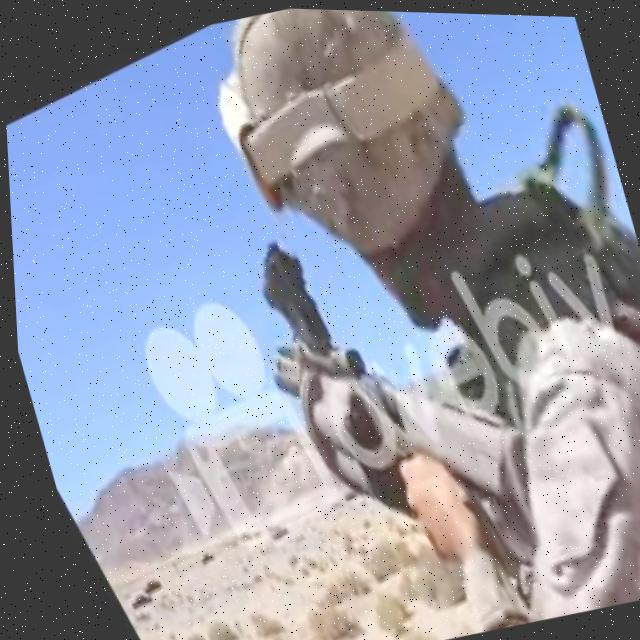rocket: (194, 160, 577, 637)
